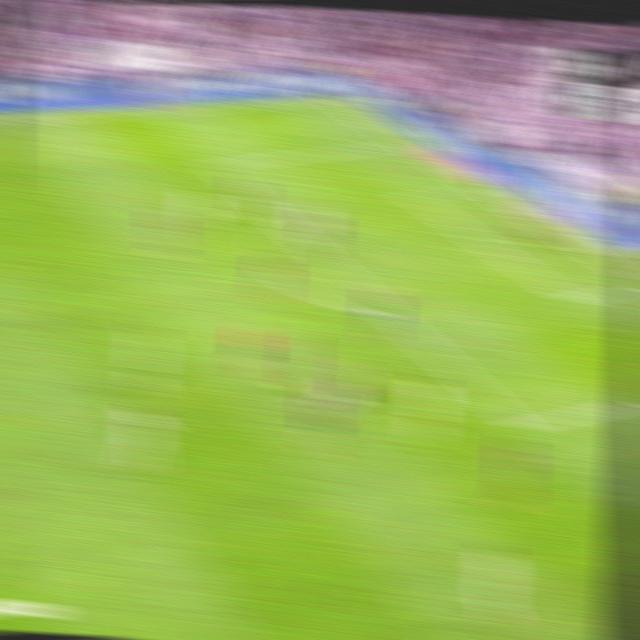bigarea_bottom_inner: (507, 411, 538, 438)
bigarea_top_inner: (205, 155, 230, 173)
bigarea_top_outter: (391, 134, 417, 151)
corner: (317, 93, 342, 103)
smallarea_top_inner: (405, 190, 429, 204)
top_arc_area_intersection: (270, 213, 300, 234)
